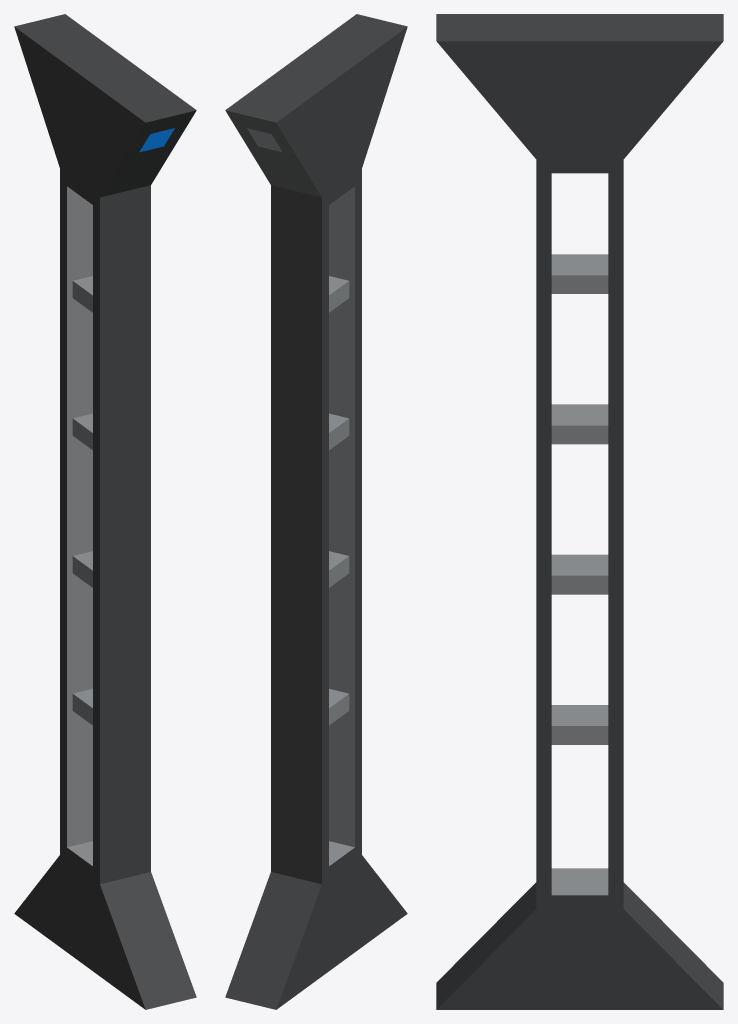
The model's file is Column_006.glb.
The picture shows the model from 3 angles, left to right: view 1: azimuth 30°, elevation 25°; view 2: azimuth 150°, elevation 25°; view 3: azimuth 270°, elevation 25°; orthographic projection. The views are drawn at different scales.
Visible parts, largest first — view 1: Column_006; view 2: Column_006; view 3: Column_006.
Boxes of the visible parts, bbox=[...] form: Column_006: bbox=[14, 14, 196, 1009]; Column_006: bbox=[225, 14, 407, 1009]; Column_006: bbox=[436, 14, 723, 1009].
Bounding box in the file's own units: 0.2321 × 3.85 × 1.03.
Materials: 2 (2 with a texture image).
